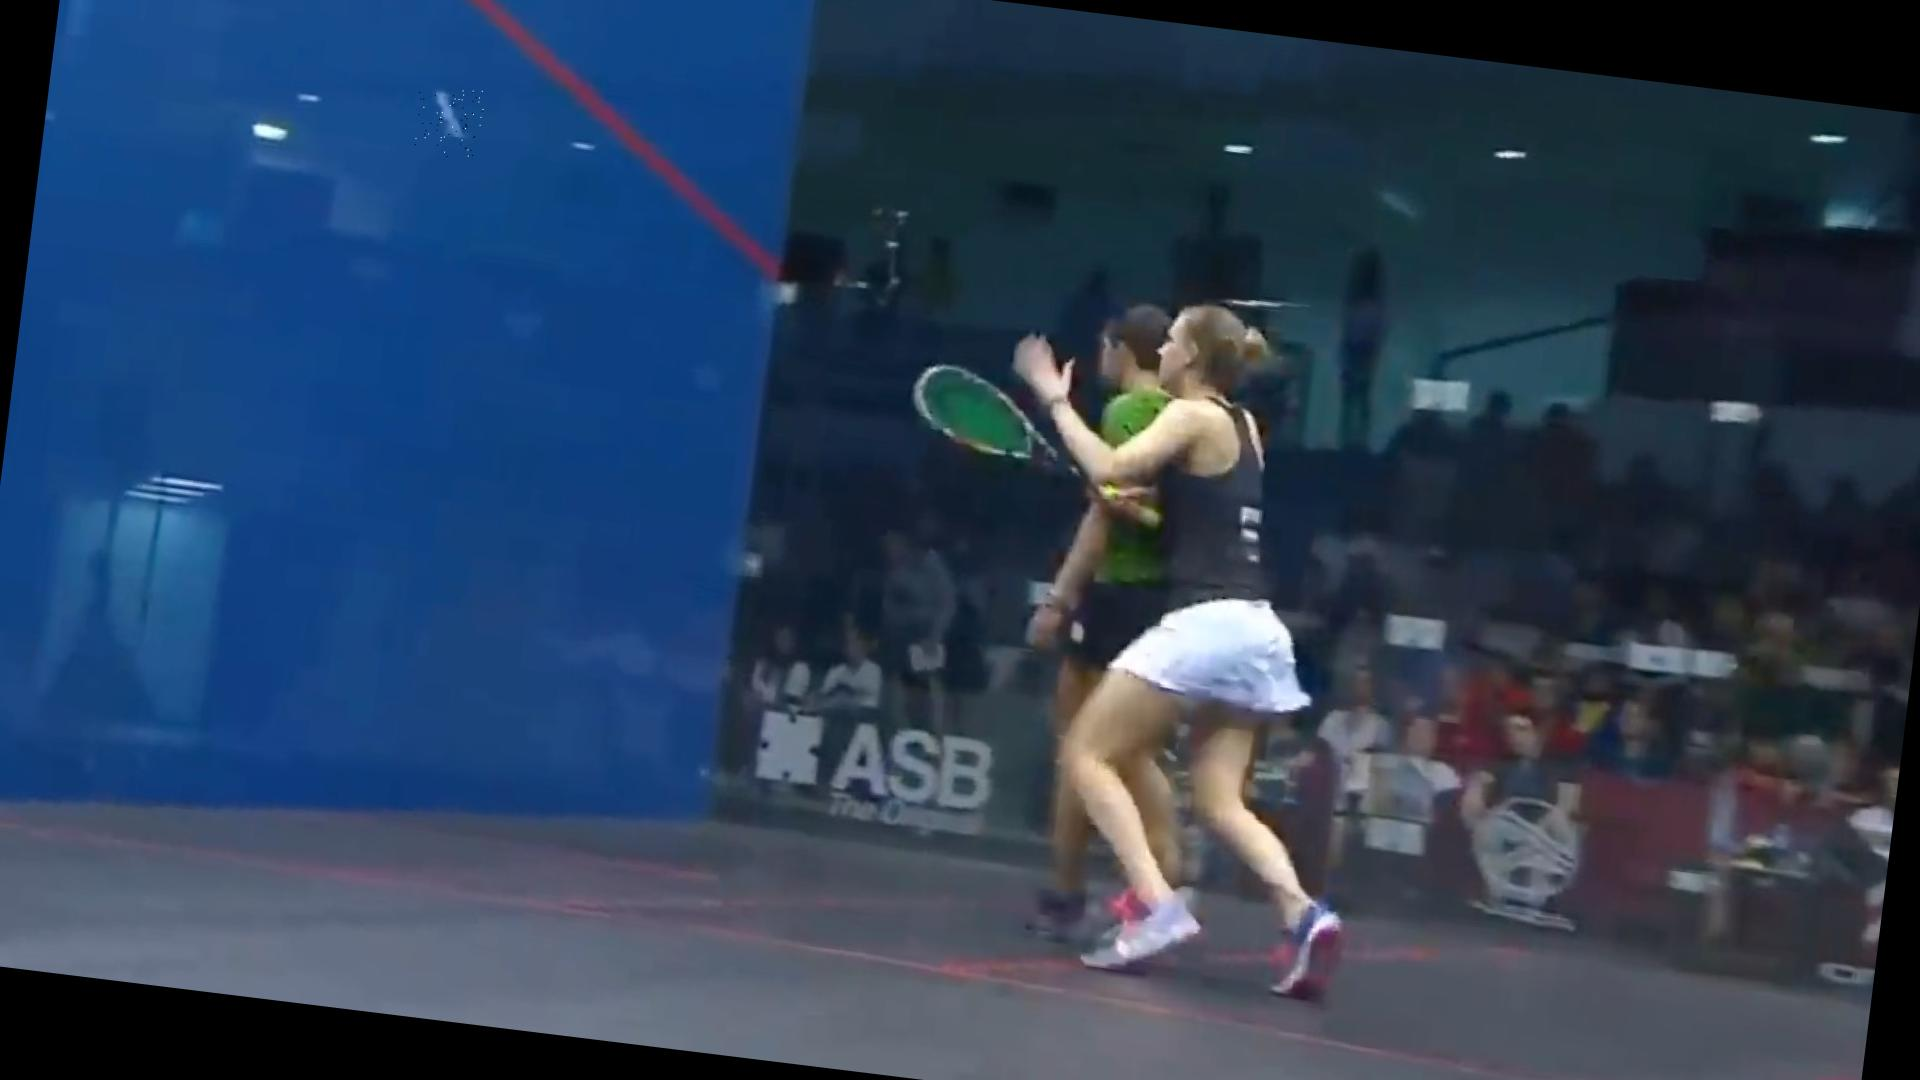Squash-Ball: (410, 78, 487, 161)
